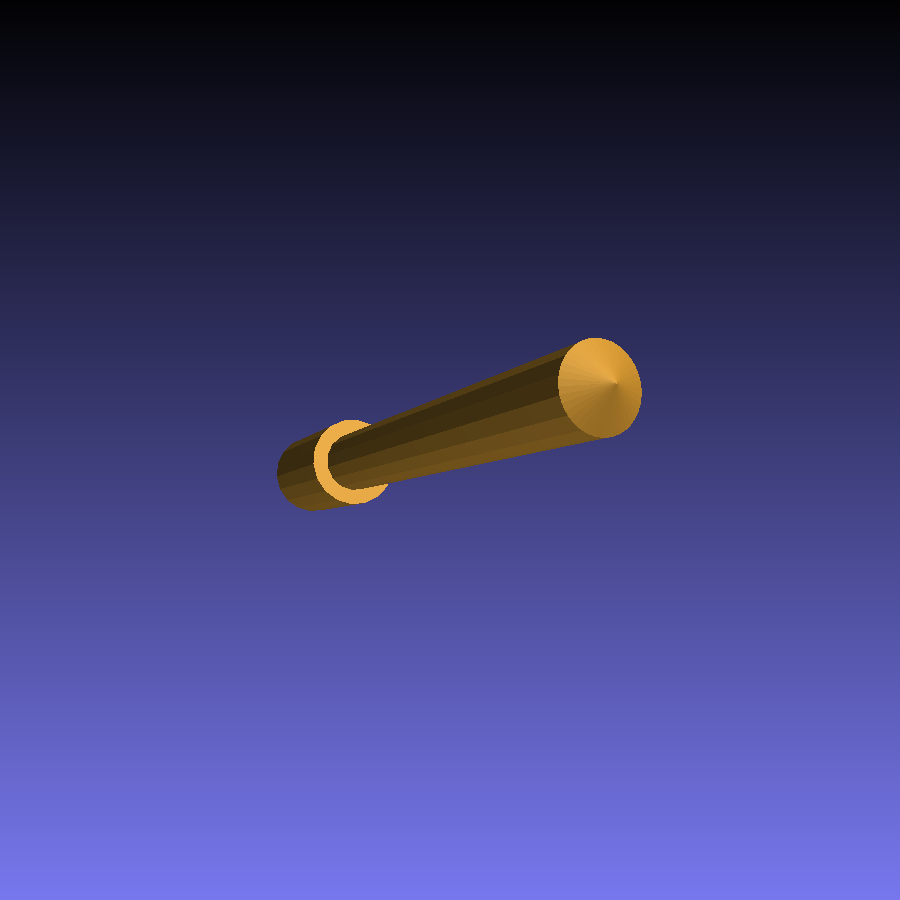cargo_g: (275, 336, 643, 512)
